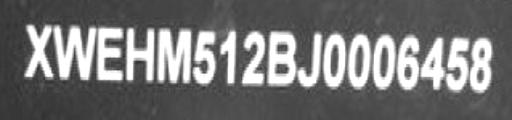letter: (51, 24, 97, 79), (156, 25, 192, 83), (264, 29, 296, 88), (22, 24, 54, 79), (94, 25, 124, 80), (125, 25, 155, 80), (296, 27, 322, 88), (418, 34, 446, 90), (192, 27, 218, 86), (240, 28, 266, 86), (394, 31, 420, 89), (444, 34, 470, 90), (372, 31, 396, 90), (346, 31, 370, 89), (470, 36, 494, 91), (218, 28, 240, 86), (322, 31, 344, 89)
